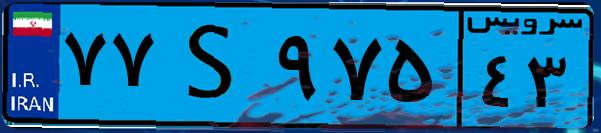3: (525, 38, 570, 115)
4: (475, 38, 525, 113)
5: (385, 28, 445, 110)
7: (330, 28, 385, 110), (57, 26, 110, 100), (110, 28, 158, 98)
9: (270, 28, 330, 110)
S: (158, 12, 270, 120)
